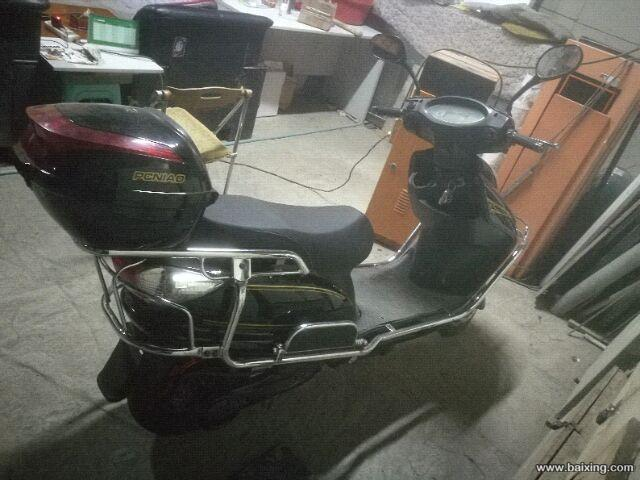电动车: (11, 27, 589, 440)
